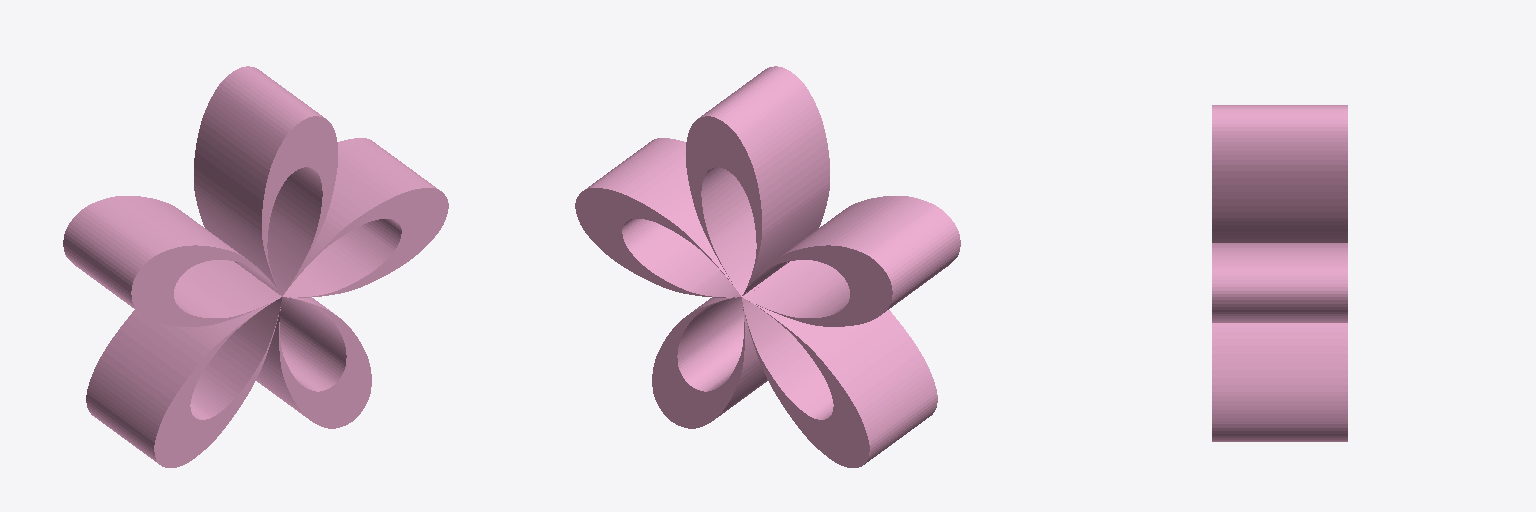
File: tinker.obj
3 views of the same model, side by side, from view 1: azimuth 30°, elevation 25°; view 2: azimuth 150°, elevation 25°; view 3: azimuth 270°, elevation 25° (orthographic).
Visible parts, largest first — view 1: obj_0; view 2: obj_0; view 3: obj_0.
Part boxes in pixels (x1,y1,x2,y2): obj_0: (63,66,448,467); obj_0: (575,66,960,467); obj_0: (1212,105,1347,441).
Size of the model in its own units: 26.9 by 25.76 by 10.